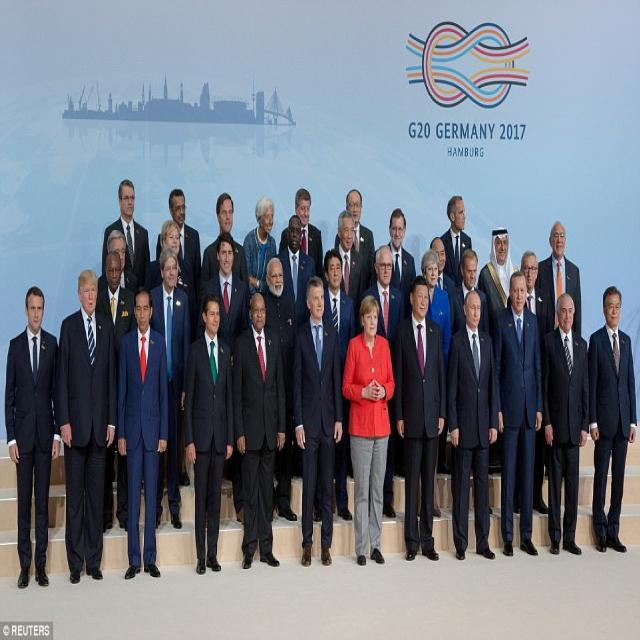body: (56, 267, 119, 586), (3, 283, 63, 591), (392, 274, 448, 563), (116, 284, 170, 582), (232, 290, 288, 571), (199, 229, 251, 531), (340, 291, 396, 569), (182, 290, 236, 576), (292, 275, 344, 568), (446, 288, 501, 562), (495, 268, 544, 559), (586, 283, 638, 554), (541, 290, 591, 558), (148, 245, 192, 531), (94, 248, 136, 534), (506, 248, 550, 518), (319, 246, 356, 523), (415, 248, 452, 520), (263, 255, 298, 522), (100, 175, 153, 299), (429, 237, 456, 476), (154, 187, 203, 316), (534, 219, 584, 340), (274, 213, 317, 331), (373, 207, 417, 322), (476, 224, 520, 338), (359, 244, 404, 351), (201, 191, 251, 284), (334, 186, 376, 290), (448, 246, 491, 346), (279, 187, 324, 279), (334, 208, 366, 336), (150, 219, 197, 302), (242, 195, 278, 298), (438, 194, 473, 288), (95, 227, 140, 293)
